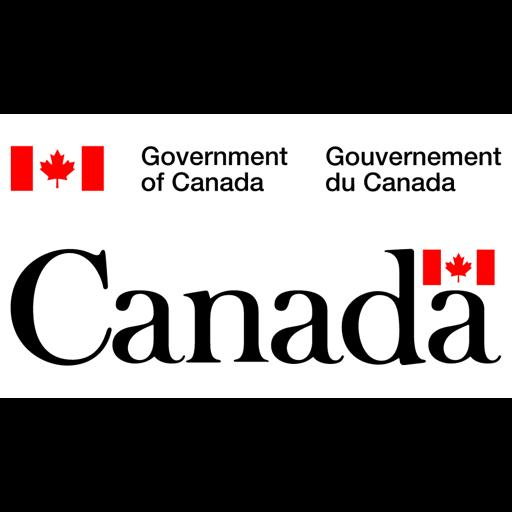Government of Canada: (0, 114, 512, 398)
